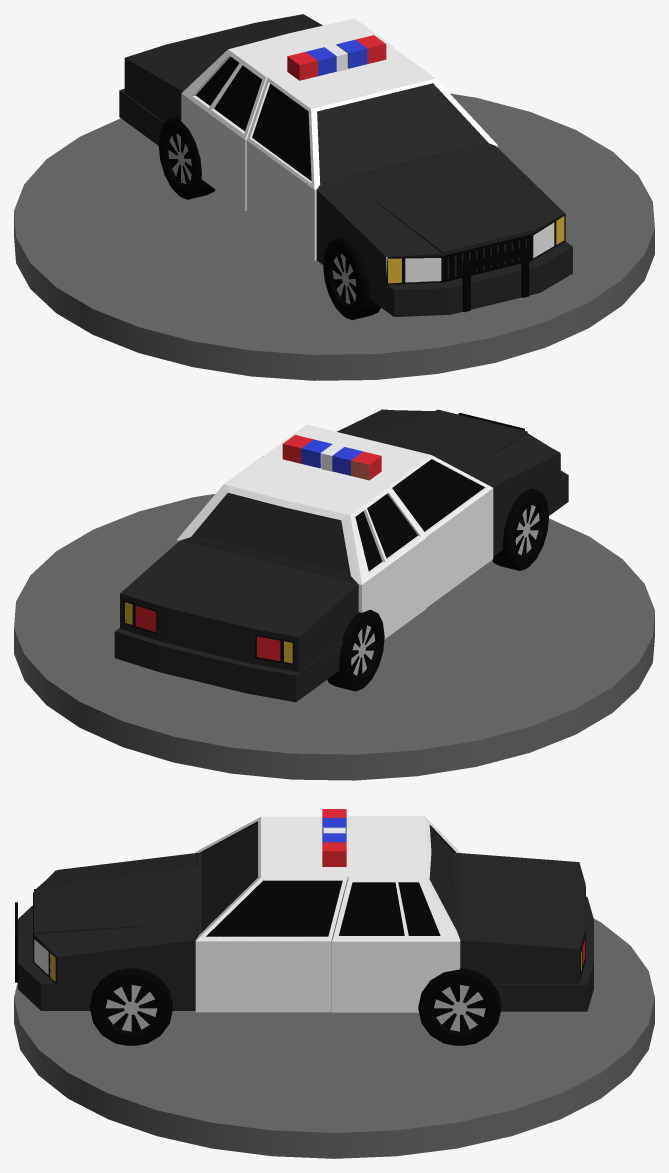
File: policeCar.glb
The picture shows the model from 3 angles, top to bottom: view 1: azimuth 30°, elevation 25°; view 2: azimuth 150°, elevation 25°; view 3: azimuth 270°, elevation 25°; orthographic projection.
Visible parts, largest first — view 1: Circle, body, rodadp.001, rodabk.001; view 2: Circle, body, rodadp.001, rodabk.001; view 3: body, Circle, rodadp, rodabk.
Boxes of the visible parts, bbox=[...] form: Circle: bbox=[14, 93, 654, 380]; body: bbox=[119, 14, 572, 316]; rodadp.001: bbox=[323, 238, 380, 320]; rodabk.001: bbox=[158, 117, 215, 199]; Circle: bbox=[14, 493, 654, 780]; body: bbox=[114, 409, 568, 702]; rodadp.001: bbox=[492, 488, 548, 570]; rodabk.001: bbox=[327, 610, 384, 691]; body: bbox=[15, 809, 593, 1012]; Circle: bbox=[14, 919, 654, 1158]; rodadp: bbox=[90, 968, 172, 1045]; rodabk: bbox=[418, 968, 501, 1045].
Size of what is drawn, in the model's own units: 6.82 by 2.28 by 6.82.
Materials: 3 (2 with a texture image).
